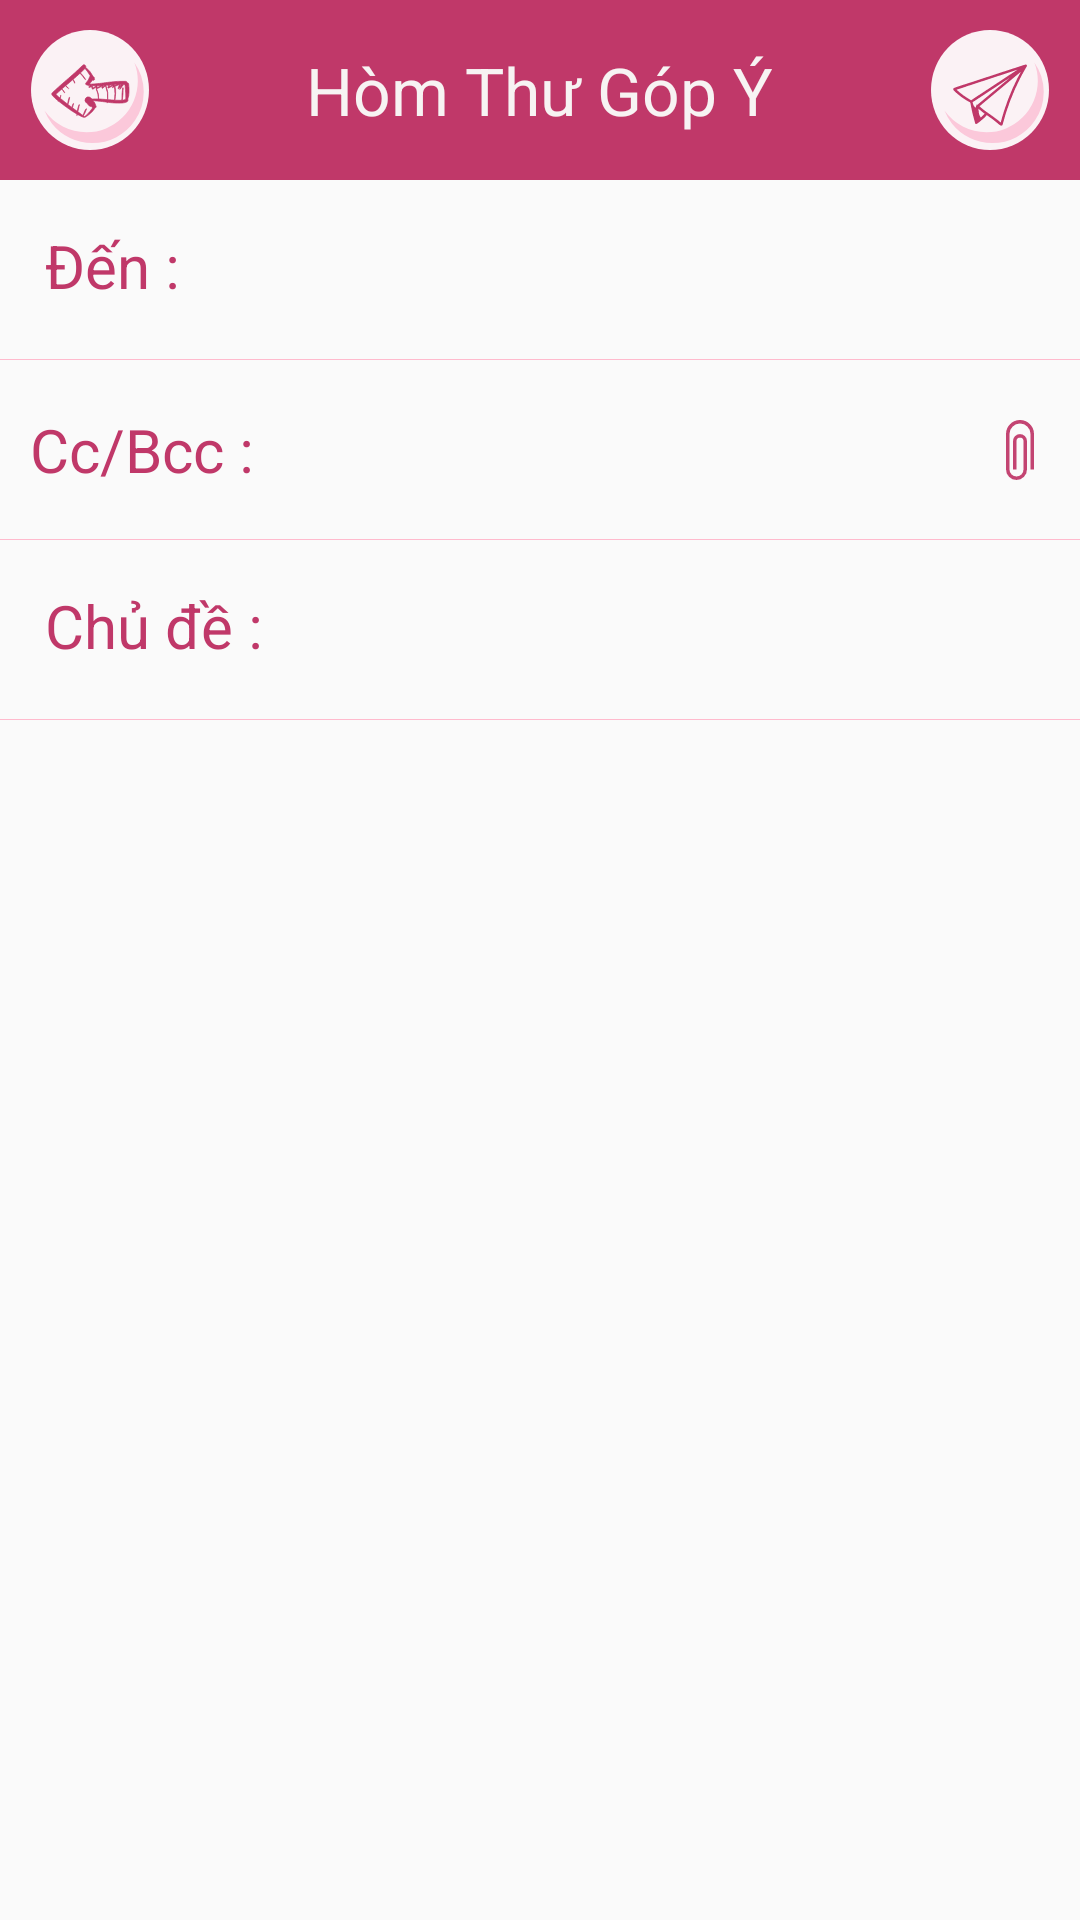

Where to tap for icons on this 1080*1920 app screen, as (x=x, y=y):
clip: (x=1020, y=450)
